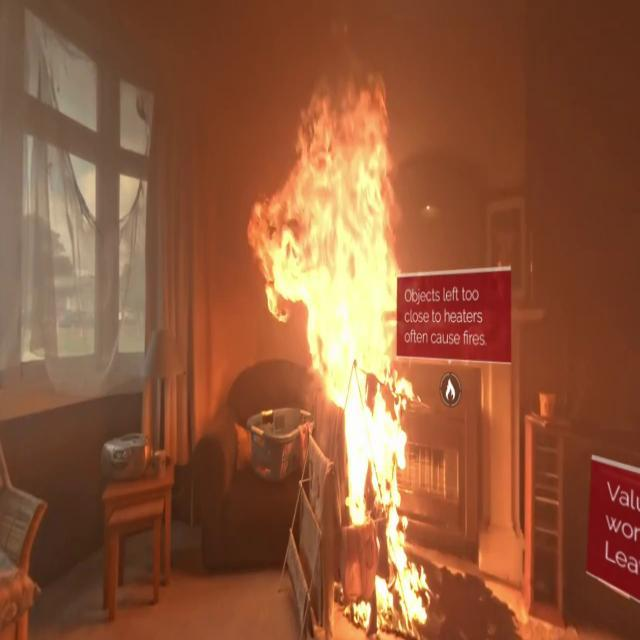Fire: (239, 68, 425, 622)
